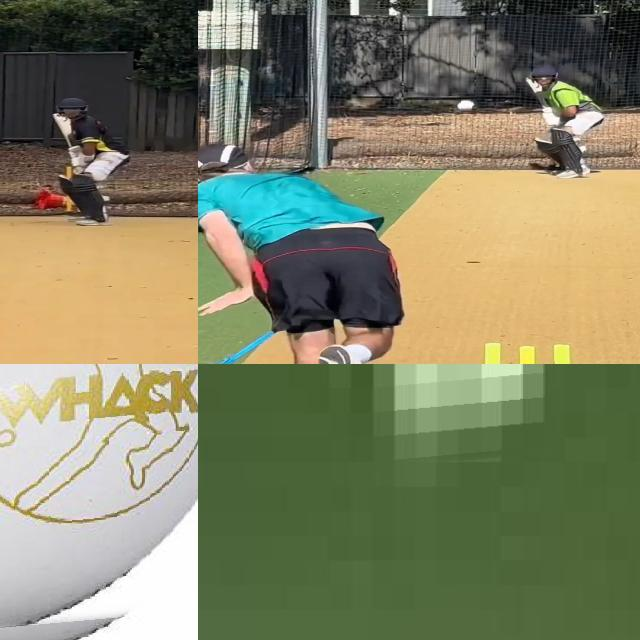Cricket ball: (0, 364, 198, 640), (367, 364, 551, 469), (455, 99, 477, 114)
